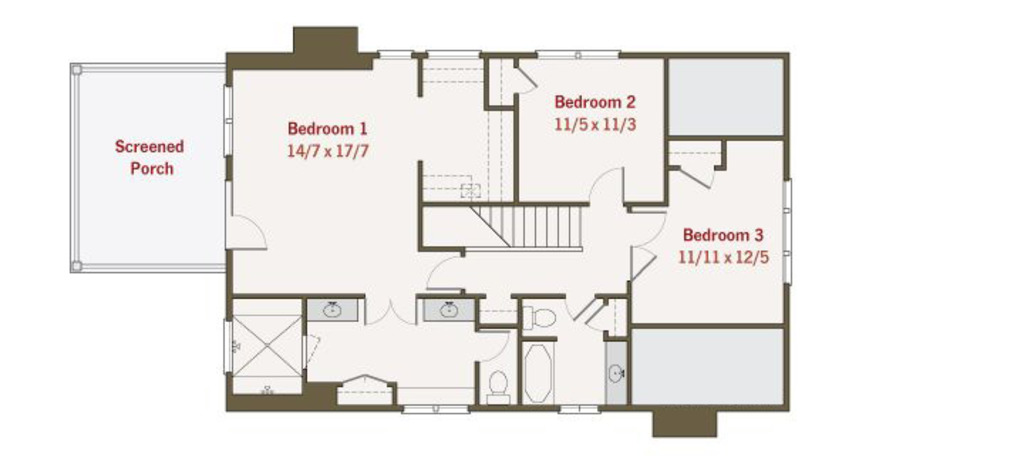door: (588, 163, 632, 211), (228, 208, 270, 256), (360, 293, 421, 326), (554, 290, 601, 325), (625, 206, 666, 245), (676, 161, 727, 192), (474, 322, 508, 359), (513, 63, 546, 100), (590, 308, 620, 334)
large_sink: (522, 297, 561, 335), (481, 363, 514, 406)
small_sink: (603, 331, 634, 404), (424, 293, 474, 322), (306, 301, 369, 323)
stairs: (434, 198, 597, 259)
tub: (518, 338, 555, 408)
window: (774, 171, 804, 285), (220, 83, 242, 160), (539, 47, 625, 65), (424, 47, 489, 63), (401, 404, 475, 418), (554, 396, 604, 415), (223, 318, 235, 371), (375, 49, 417, 59)
